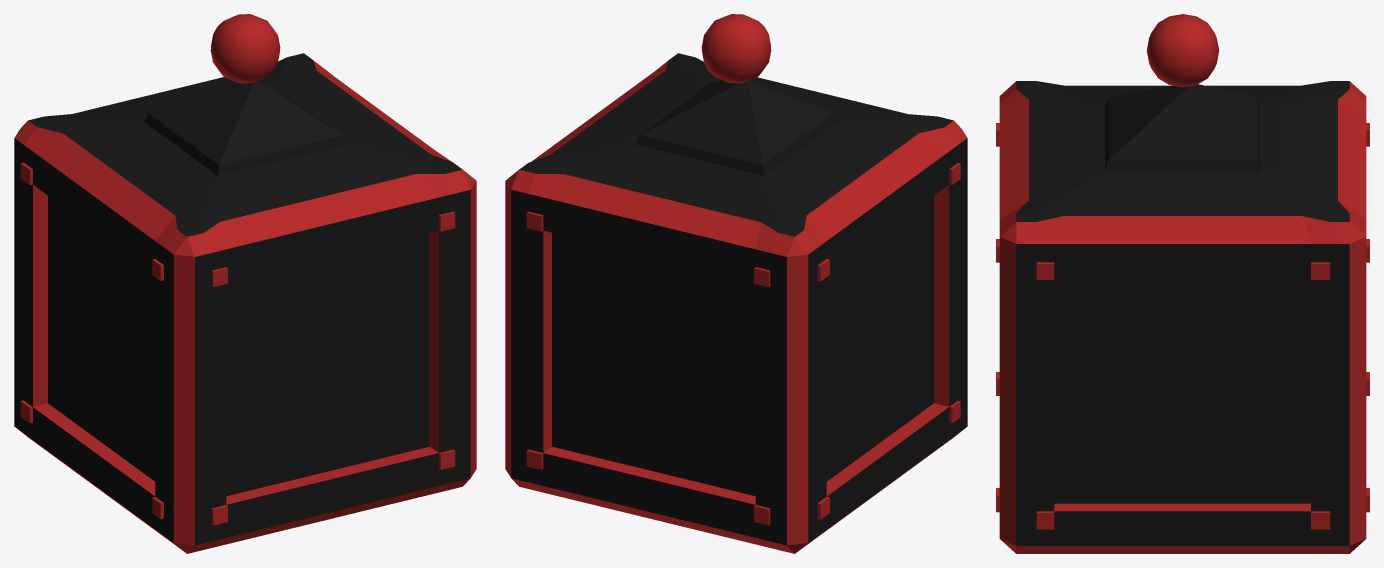
Rendered from fake_boost.glb.
The picture shows the model from 3 angles, left to right: view 1: azimuth 30°, elevation 25°; view 2: azimuth 150°, elevation 25°; view 3: azimuth 270°, elevation 25°; orthographic projection. The views are drawn at different scales.
Visible parts, largest first — view 1: Cube, Cube.001; view 2: Cube, Cube.001; view 3: Cube, Cube.001.
Part boxes in pixels (box(x1,y1,x2,y2)): Cube: box(14, 53, 476, 553); Cube.001: box(210, 14, 280, 83); Cube: box(505, 53, 967, 553); Cube.001: box(701, 14, 771, 83); Cube: box(996, 81, 1369, 553); Cube.001: box(1146, 14, 1219, 87).
Bounding box in the file's own units: 2.04 × 2.81 × 2.04.
